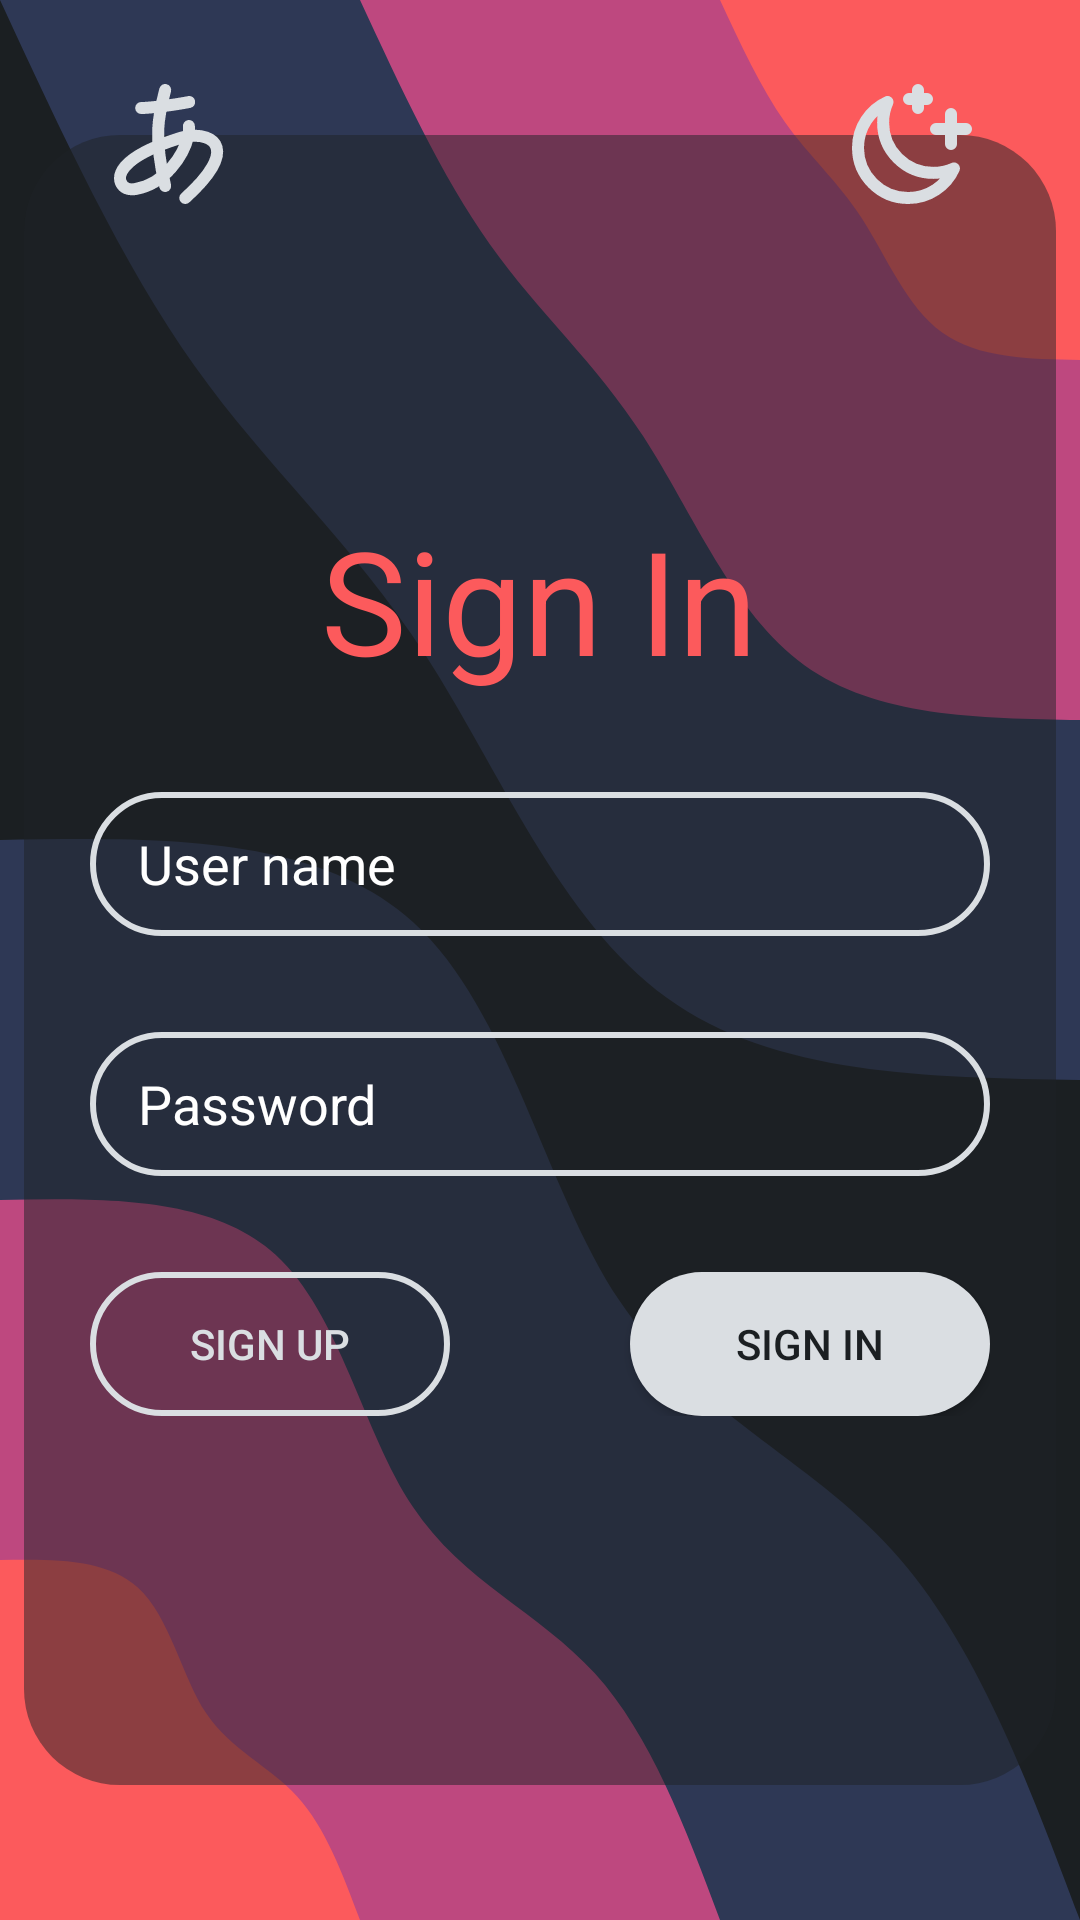

Screen size 1080 x 1920. Icon name, then its center in pixels as [x,y]:
letter japanese: [169,144]
moon stars: [912,144]
